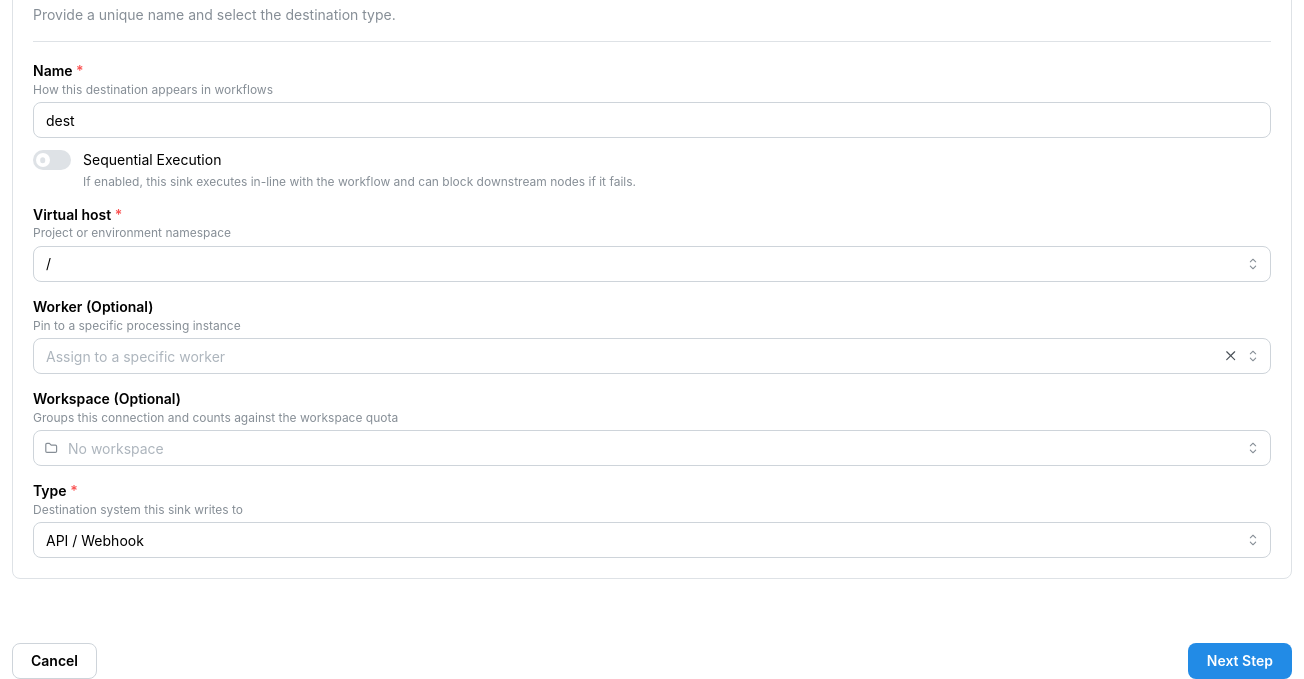
Test case: the API / Webhook connection step › renders its own fields, not the database form
This screenshot has width=1304, height=679.
(page scrolled)
What coordinates should you click on to do the following:
click the button "Next Step"
I would click on:
 (1240, 661)
Its box is [1188,643,1292,678].
(page scrolled)
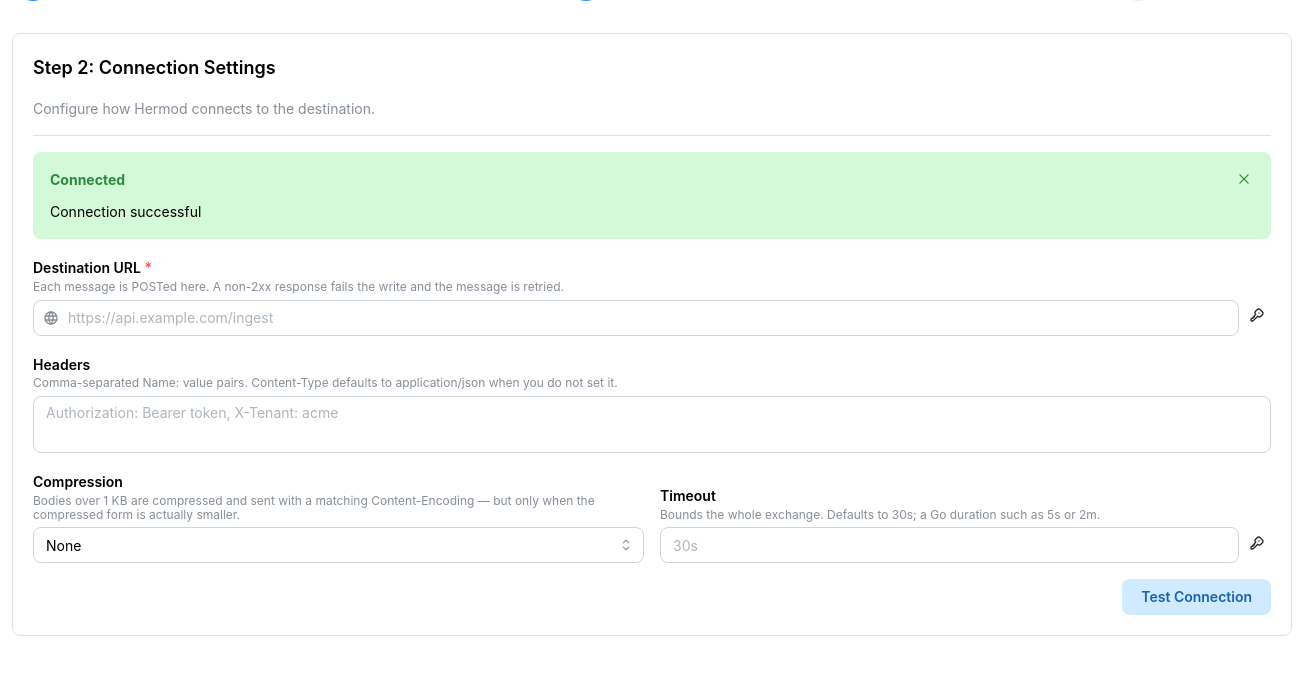
Expected: the text "Step 2: Connection Settings" is shown, [33,57,276,78]
Expected: the field with placeholder "https://api.example.com/ingest" is shown, [33,300,1239,336]
Expected: the text box with placeholder "Authorization: Bearer token, X-Tenant: acme" is shown, [33,396,1271,453]
